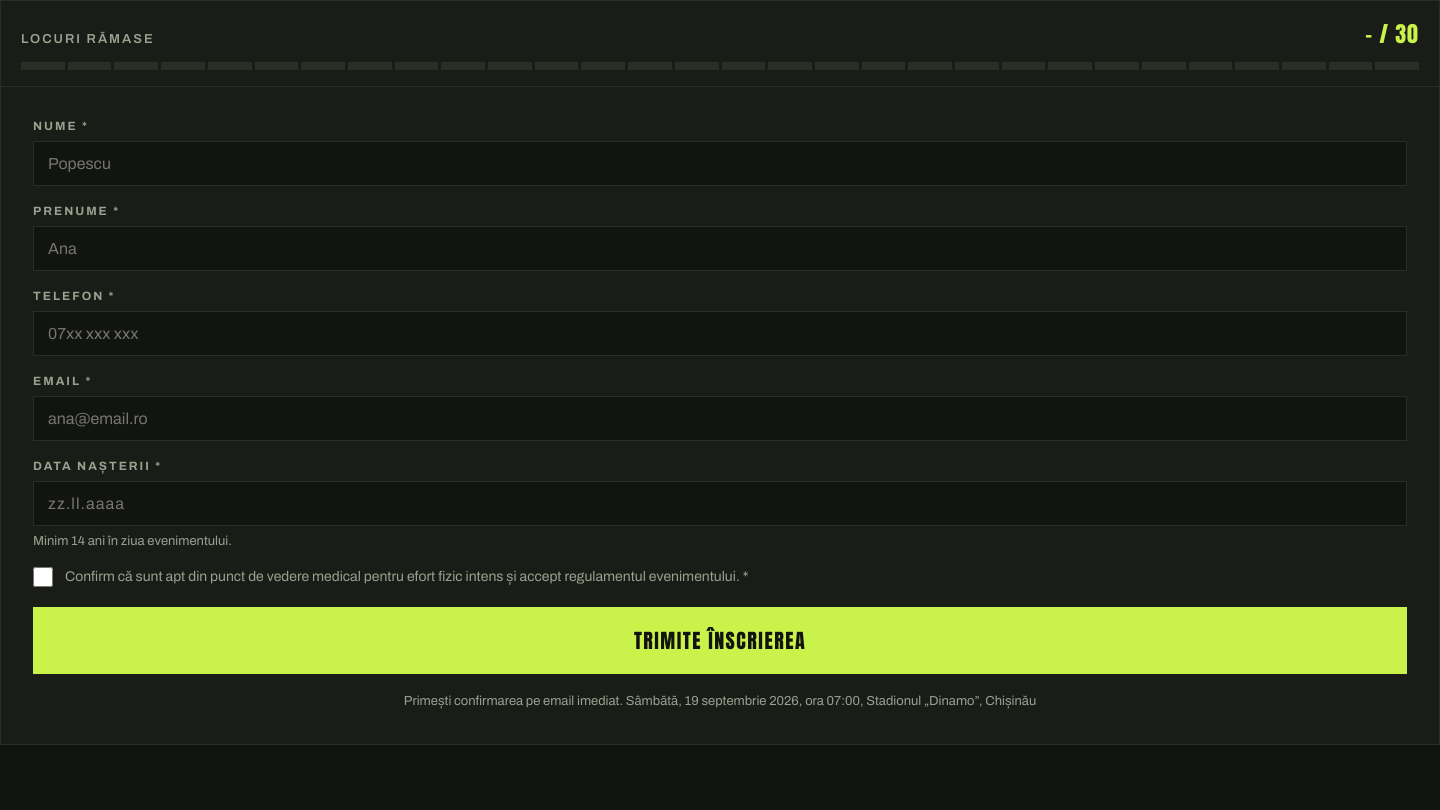
înscrierea prin formularul real › validarea goală arată erorile lângă câmpuri fără o comandă
What coordinates should you click on to do the following:
click the button "Trimite înscrierea"
I would click on:
 (720, 640)
Its box is [33,607,1407,674].
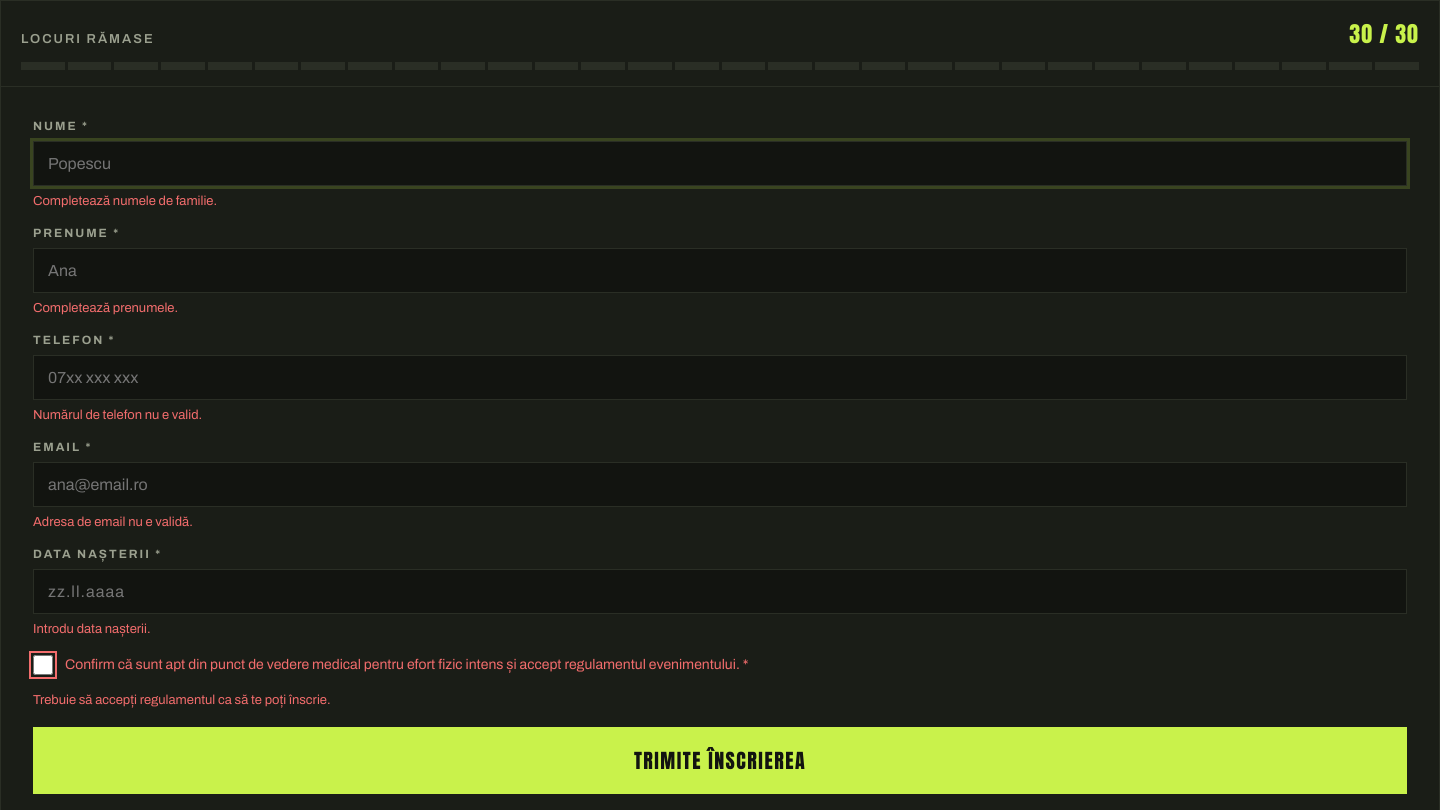
Now the text "Completează numele de familie." is shown, box [33,194,217,208]
Now the text "Completează prenumele." is shown, box [33,301,178,315]
Now the text "Adresa de email nu e validă." is shown, box [33,515,193,529]
